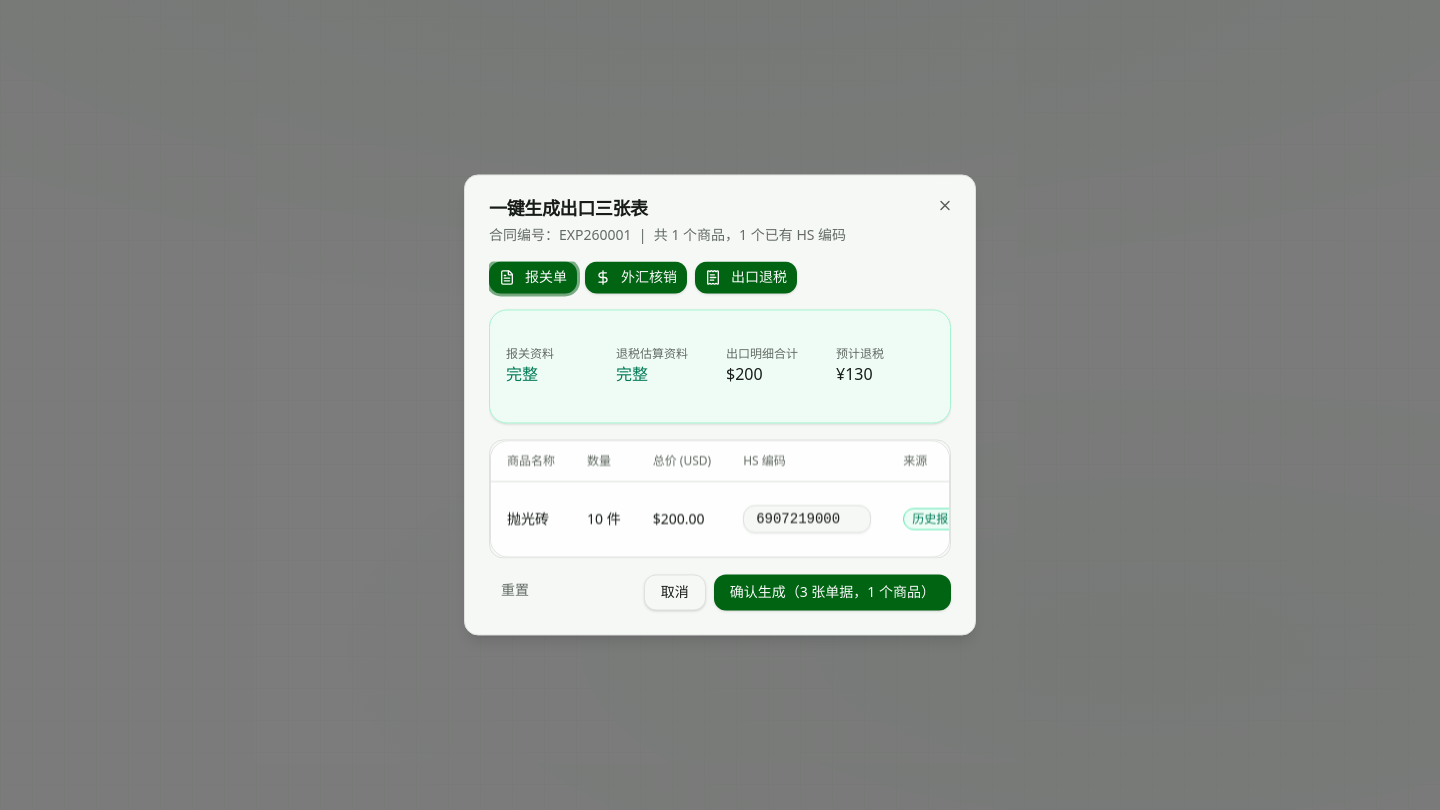
GenerateThreeFormsDialog › 网络 Error 保留可见提示且不自动重新生成
Step 1. Click the button "确认生成（3 张单据，1 个商品）" → [832, 592], box [714,574,951,610]
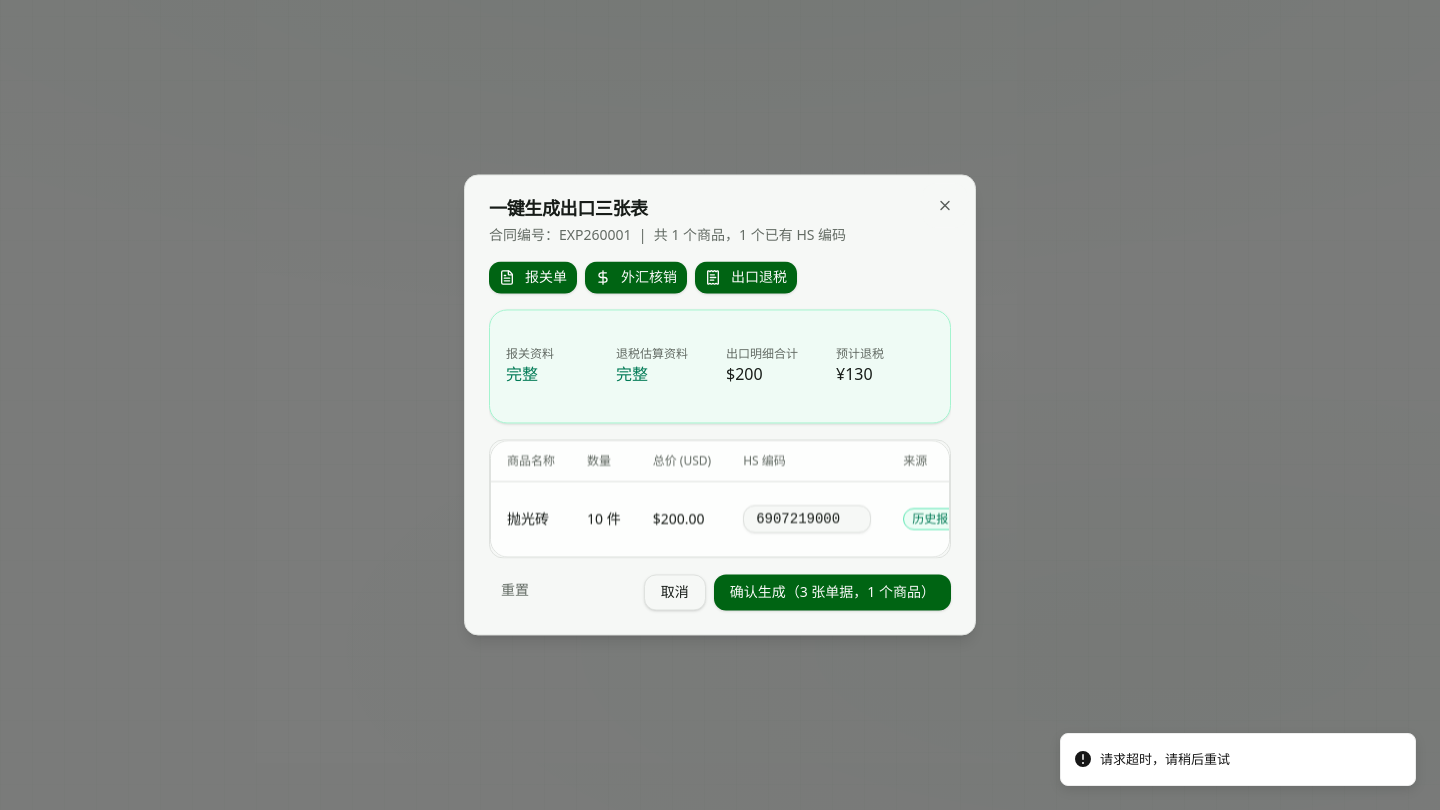
Check: the dialog is shown, box [464,174,976,636]
Check: the text "请求超时，请稍后重试" is shown, box [1100,750,1230,769]
